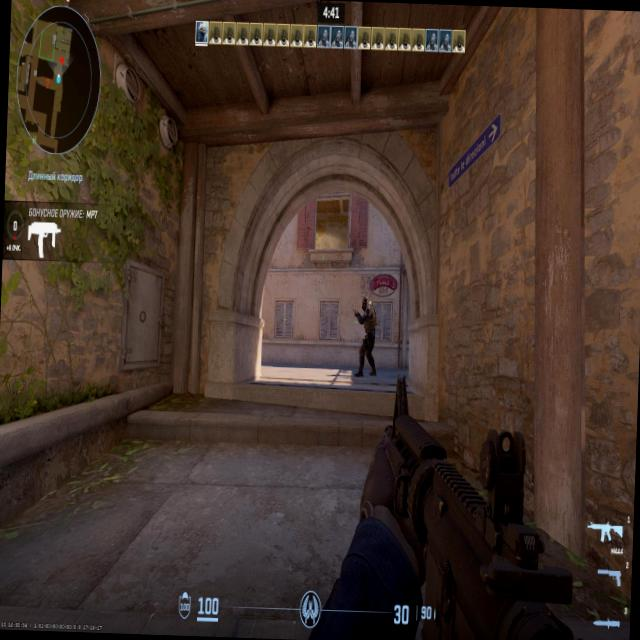CT: (354, 292, 374, 372)
CT_heat: (362, 301, 367, 310)
